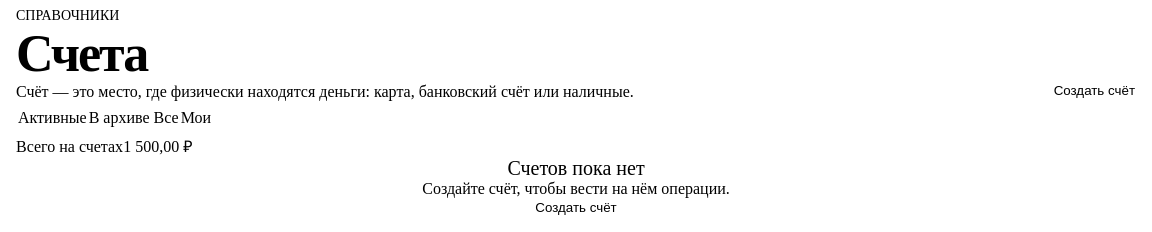
Test case: accounts page › separates an empty archive from an empty budget
The width and height of the screenshot is (1152, 232).
Click the button with test id "status-archived": (119, 118) 89,103 -> 150,133
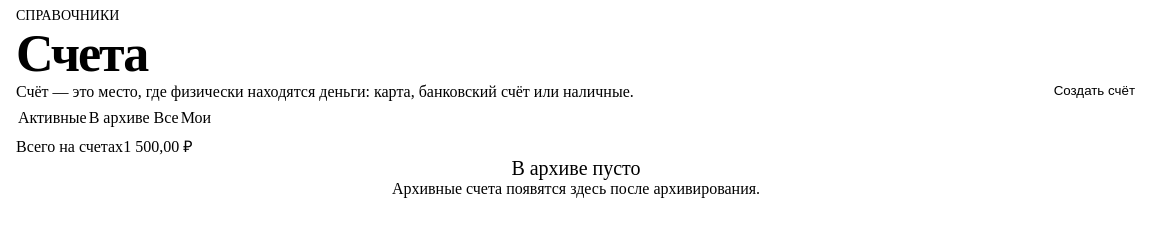
expect the text "В архиве пусто" is shown: met, box 511,157 -> 641,180
